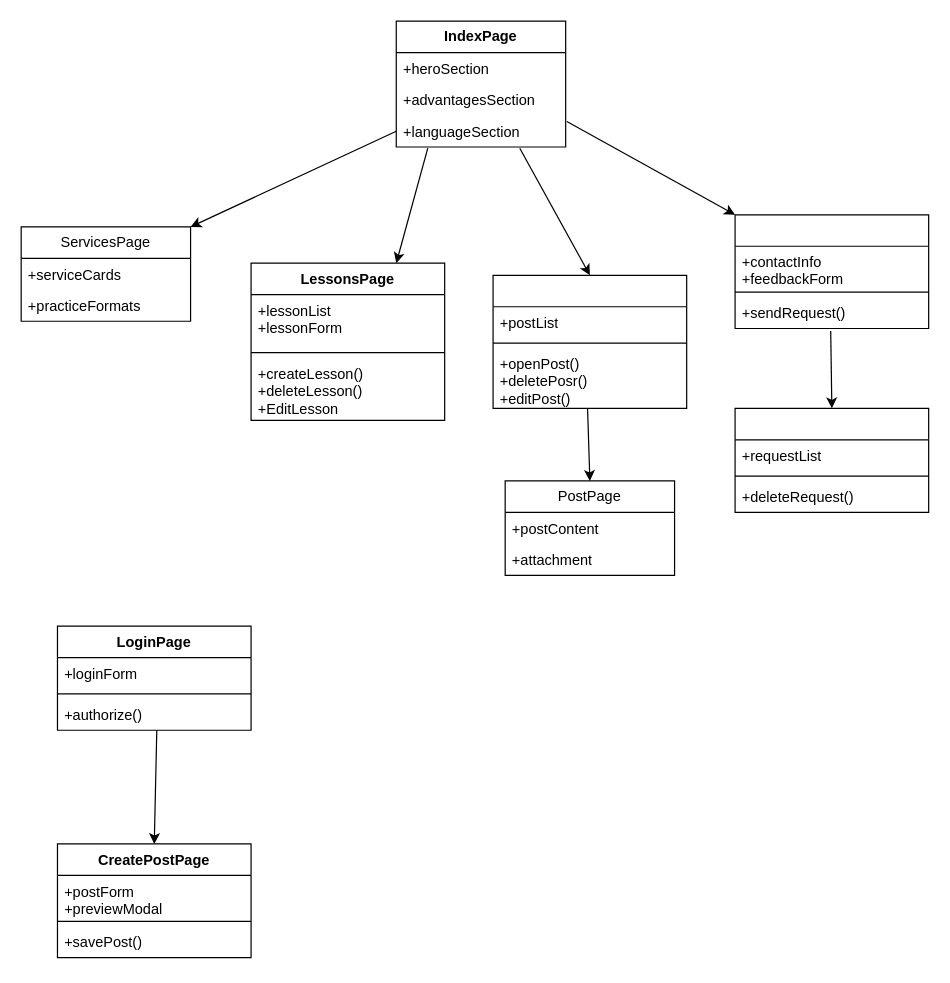
The diagram is 950 pixels wide and 983 high, and some of its shapes have lost their labels. Here are the shapes that lost their labels. From the top down, the box of each, then its label:
(734, 214, 929, 329): ContactsPage
(492, 274, 687, 408): BlogPage
(734, 407, 929, 512): RequestsPage
